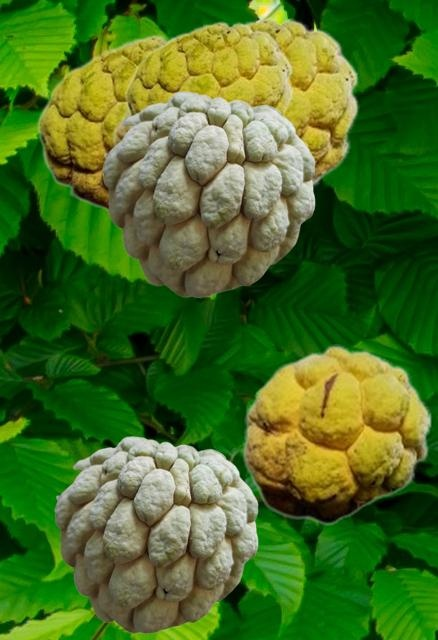atis: (102, 91, 314, 296), (54, 436, 257, 632), (241, 344, 431, 524), (36, 34, 175, 213), (230, 17, 358, 185), (108, 105, 325, 188), (124, 21, 292, 127)
